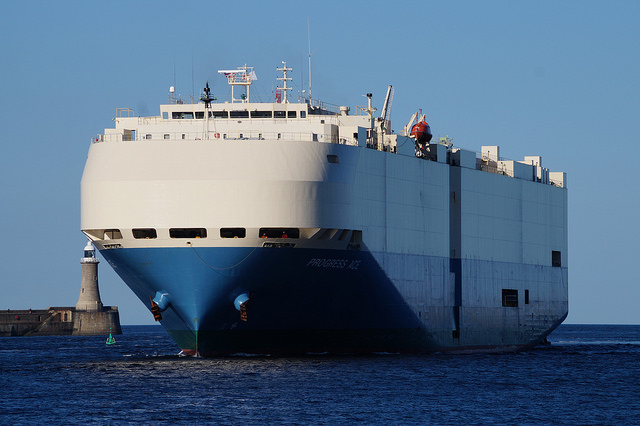PCC: (77, 53, 580, 356)
